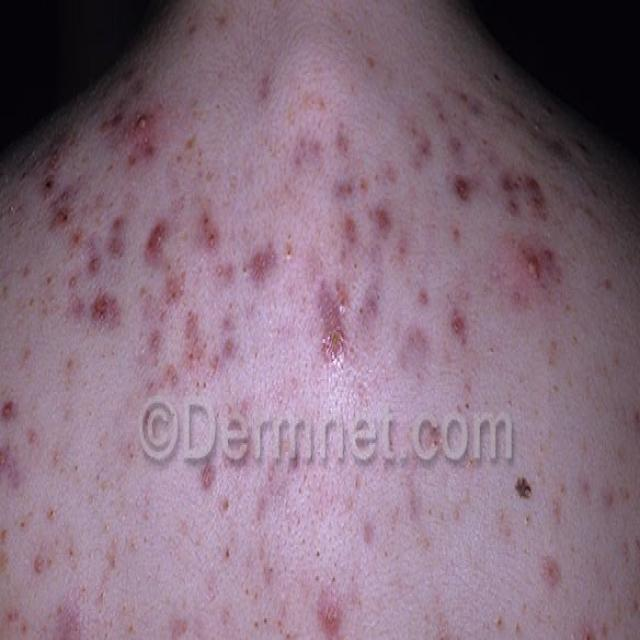Acne: (11, 91, 619, 374), (0, 388, 533, 640)
